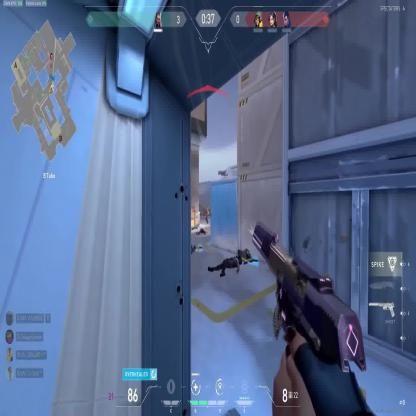enemy: (204, 206, 210, 223)
enemy_head: (206, 206, 208, 210)
